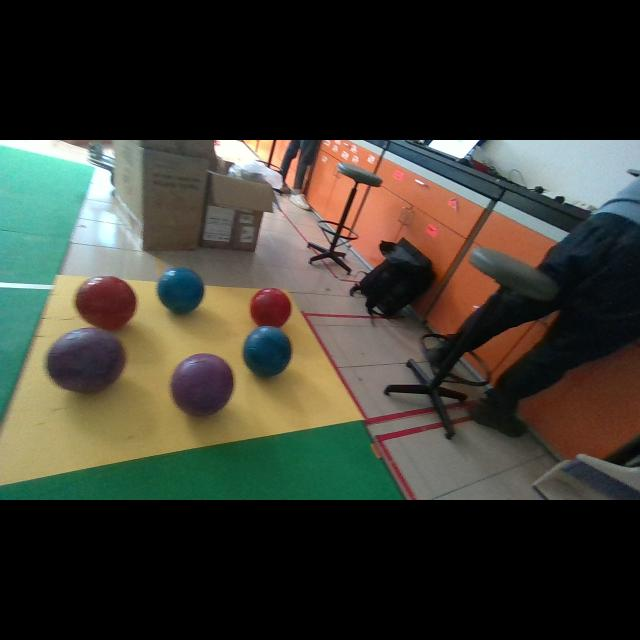B: (242, 326, 291, 376), (158, 269, 204, 313)
P: (48, 328, 125, 392), (171, 354, 234, 416)
R: (75, 276, 136, 329), (250, 288, 291, 327)
